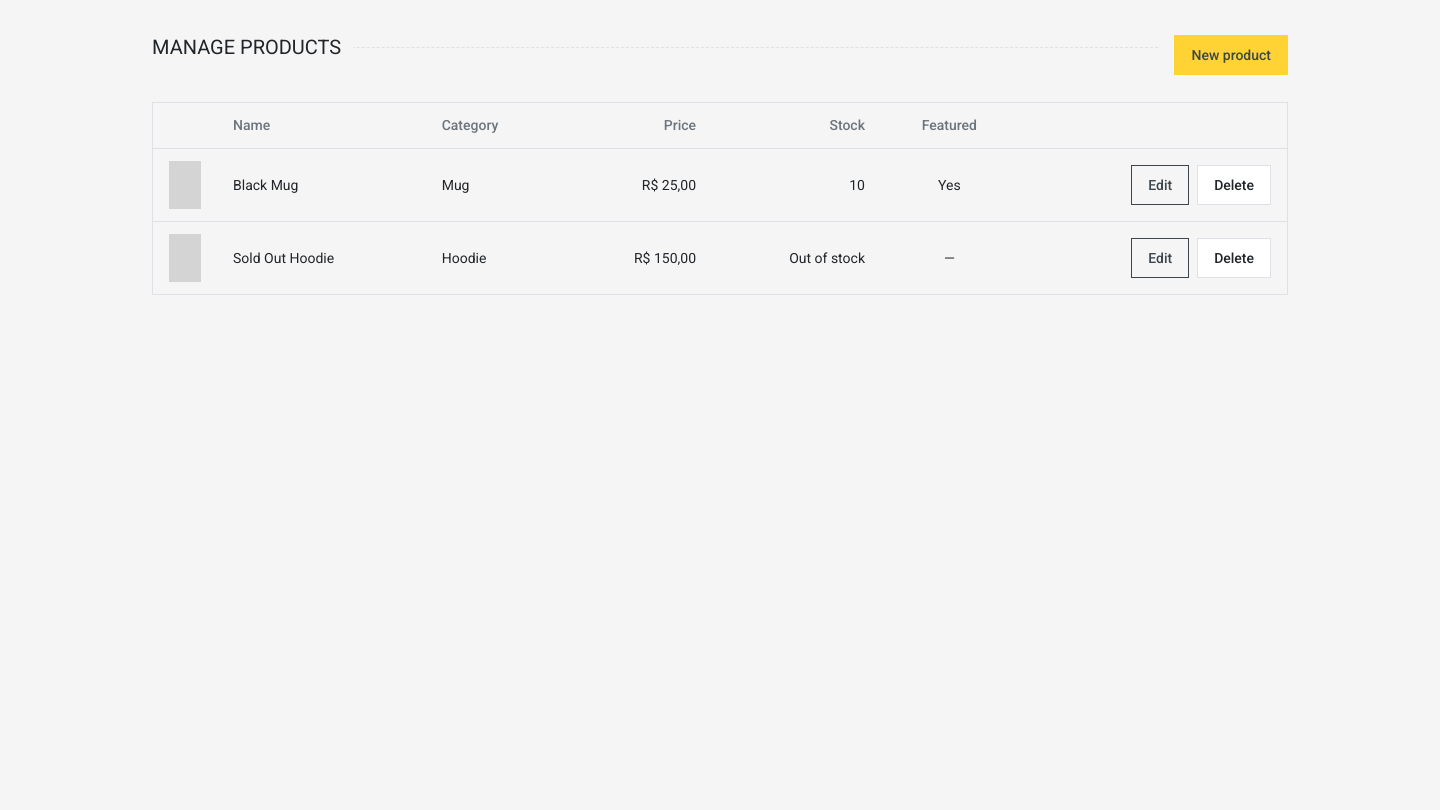
Test: AdminProducts › edit › opens the form filled with the product
The image size is (1440, 810).
Check: the text "Black Mug" is shown, box [217,148,426,222]
Click the button "Edit" in the row of "Black Mug". click: (1160, 185)
box: [1131,165,1189,205]
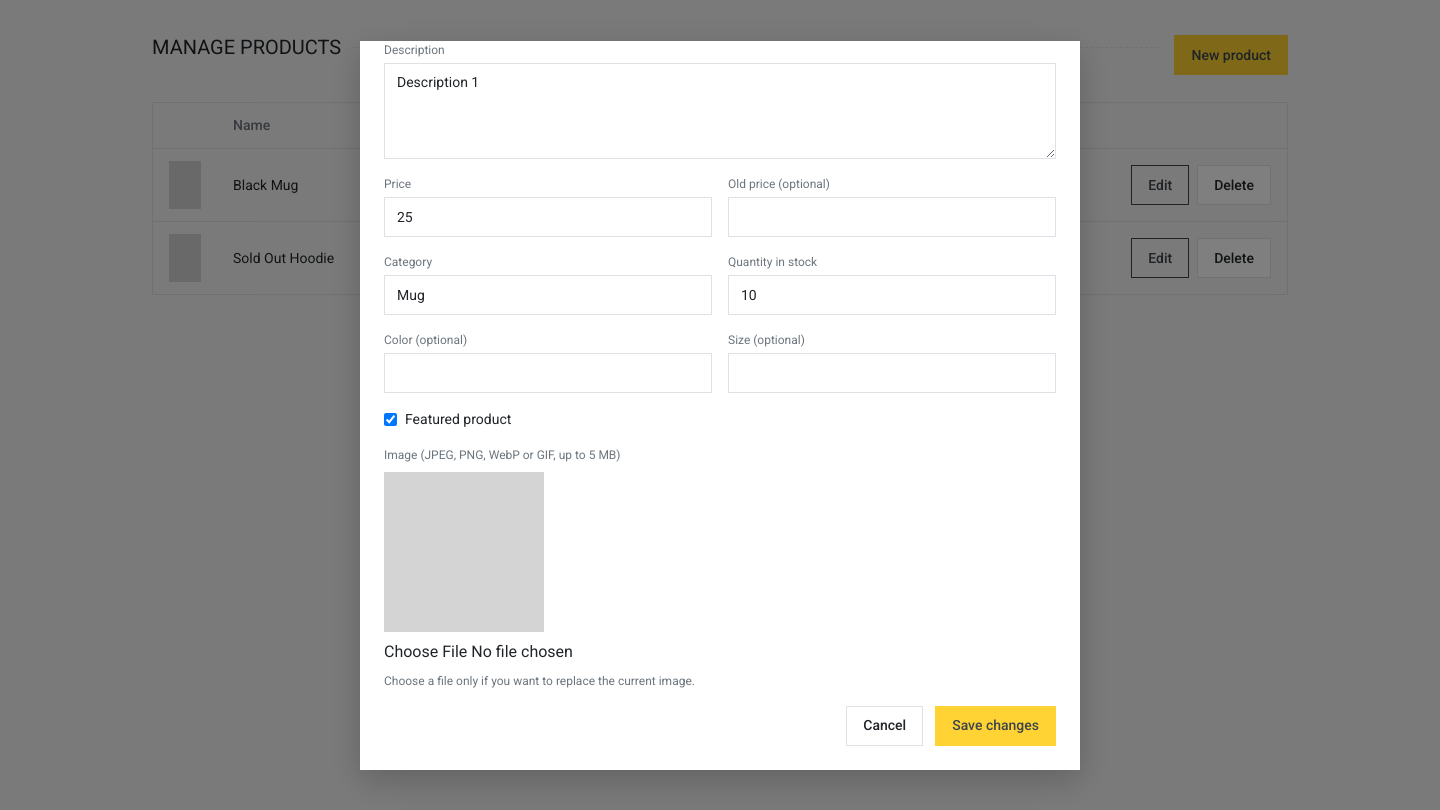
Check: the button "Save changes" is shown, box [935,706,1056,746]
